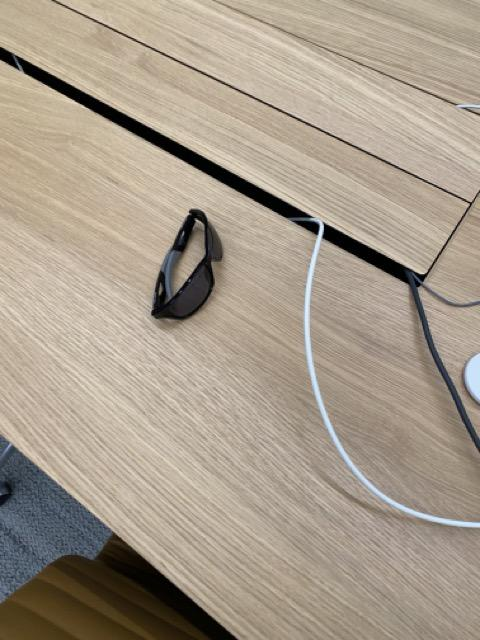Sunglasses: (152, 207, 226, 323)
